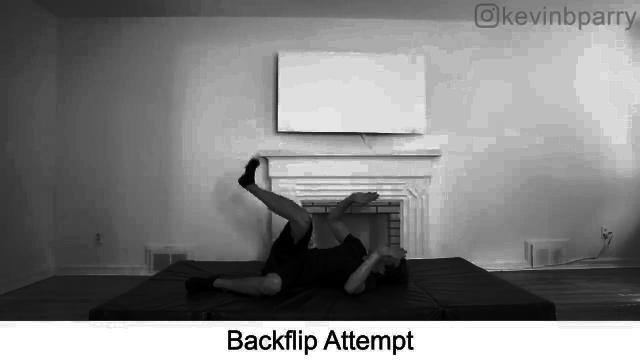jatuh: (178, 147, 406, 307)
